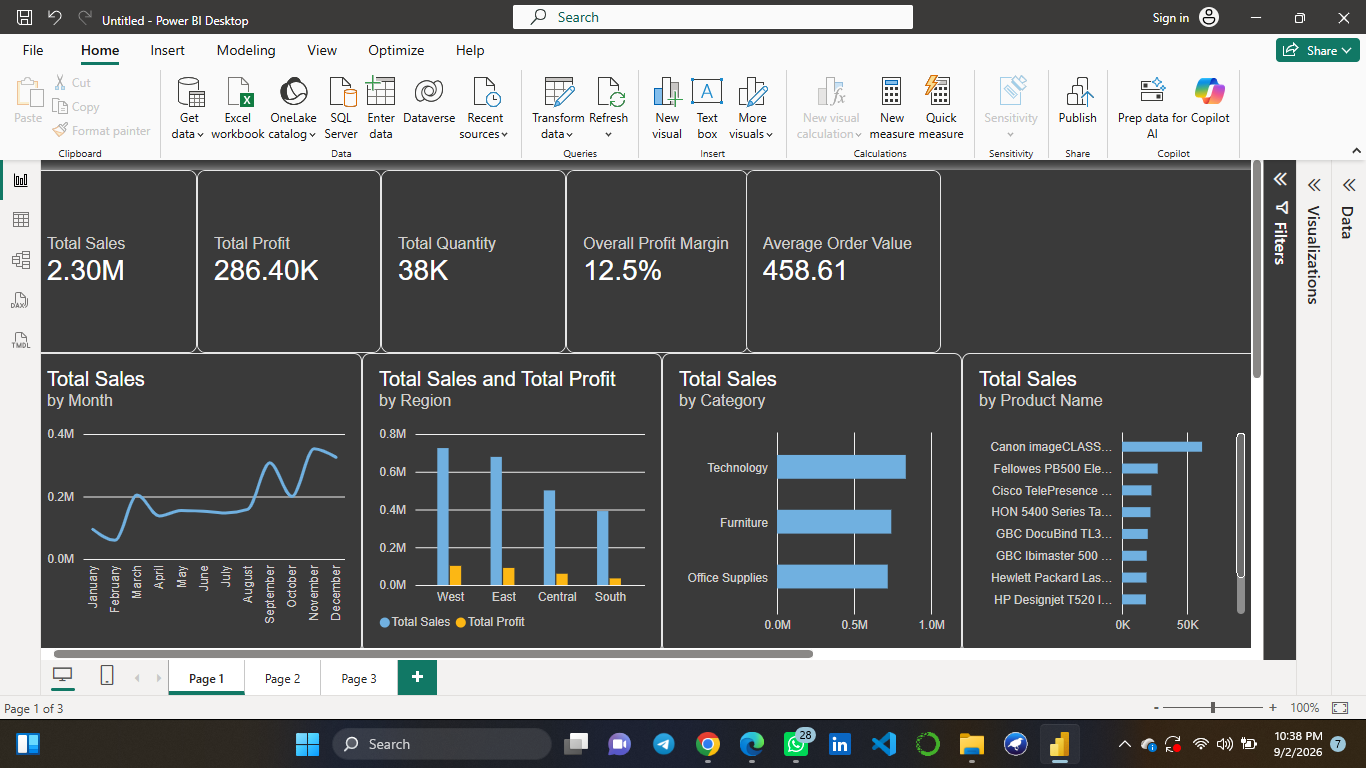

This screenshot's page, from the dashboard's own definition file:
{"tool":"powerbi","page":{"name":"Page 1","canvas":[1920,1080],"ordinal":0},"visuals":[{"type":"cardVisual","fields":{"Data":["tblSuperstore.Total Sales"]},"box":[0,0,167,183],"z":0},{"type":"cardVisual","fields":{"Data":["tblSuperstore.Total Profit"]},"box":[167,0,184,183],"z":1000},{"type":"cardVisual","fields":{"Data":["tblSuperstore.Total Quantity"]},"box":[351,0,185,183],"z":2000},{"type":"cardVisual","fields":{"Data":["tblSuperstore.Overall Profit Margin"]},"box":[536,0,182,183],"z":3000},{"type":"cardVisual","fields":{"Data":["tblSuperstore.Average Order Value"]},"box":[716,0,195,183],"z":4000},{"type":"lineChart","fields":{"Category":["DateTable.Date.Variation.Date Hierarchy.Month"],"Y":["tblSuperstore.Total Sales"]},"box":[0,183,332,300],"z":5000},{"type":"clusteredColumnChart","fields":{"Category":["tblSuperstore.Region"],"Y":["tblSuperstore.Total Sales","tblSuperstore.Total Profit"]},"box":[332,183,300,300],"z":6000},{"type":"clusteredBarChart","fields":{"Category":["tblSuperstore.Category"],"Y":["tblSuperstore.Total Sales"]},"box":[632,183,300,300],"z":7000},{"type":"clusteredBarChart","fields":{"Category":["tblSuperstore.Product Name"],"Y":["tblSuperstore.Total Sales"]},"box":[932,183,300,300],"z":8000}]}

Visuals, with their boxes on the page's 1920x1080 design canvas (x1, y1, x2, y2). These are canvas units, not pixel positions in the 1366x768 screenshot, which may show the page scaled, cropped or inside an application window:
cardVisual - tblSuperstore.Total Sales: Rect(0, 0, 167, 183)
cardVisual - tblSuperstore.Total Profit: Rect(167, 0, 351, 183)
cardVisual - tblSuperstore.Total Quantity: Rect(351, 0, 536, 183)
cardVisual - tblSuperstore.Overall Profit Margin: Rect(536, 0, 718, 183)
cardVisual - tblSuperstore.Average Order Value: Rect(716, 0, 911, 183)
lineChart - DateTable.Date.Variation.Date Hierarchy.Month x tblSuperstore.Total Sales: Rect(0, 183, 332, 483)
clusteredColumnChart - tblSuperstore.Region x tblSuperstore.Total Sales: Rect(332, 183, 632, 483)
clusteredBarChart - tblSuperstore.Category x tblSuperstore.Total Sales: Rect(632, 183, 932, 483)
clusteredBarChart - tblSuperstore.Product Name x tblSuperstore.Total Sales: Rect(932, 183, 1232, 483)
